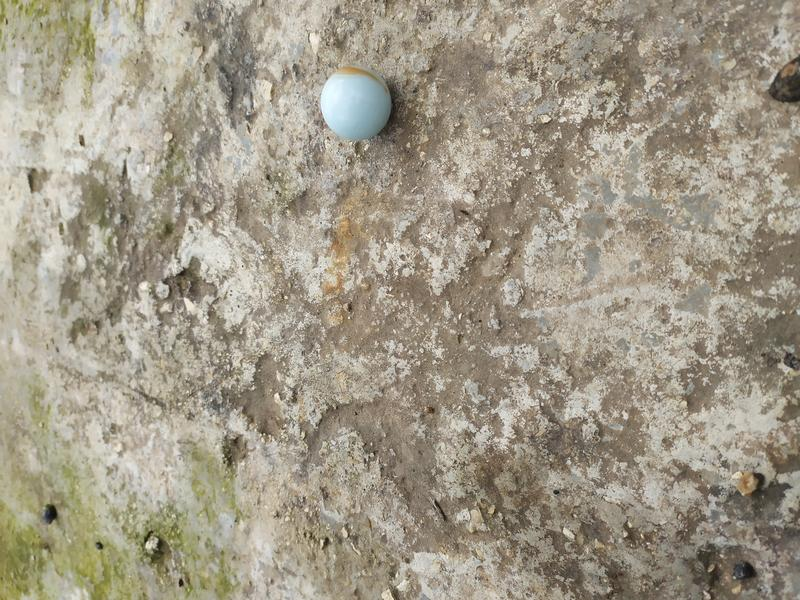Warning: (318, 63, 395, 143)
